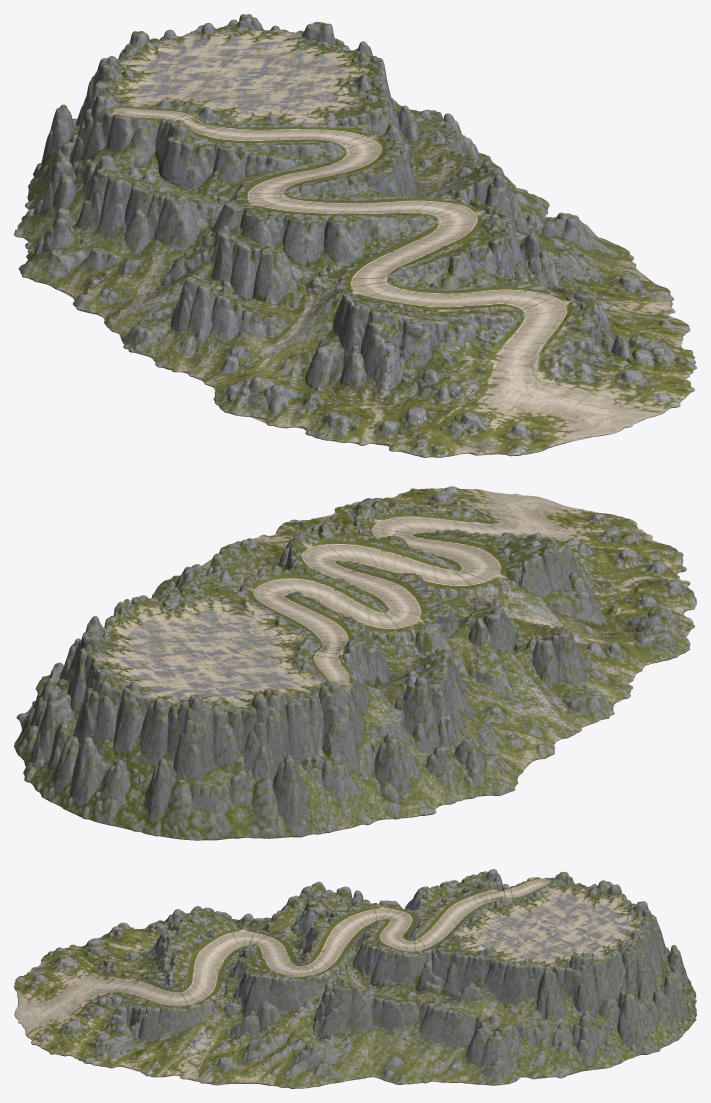
The model's file is glb.glb.
The picture shows the model from 3 angles, top to bottom: view 1: azimuth 30°, elevation 25°; view 2: azimuth 150°, elevation 25°; view 3: azimuth 270°, elevation 25°; orthographic projection. The views are drawn at different scales.
Visible parts, largest first — view 1: Mesh_0; view 2: Mesh_0; view 3: Mesh_0.
Part boxes in pixels (x1=…): Mesh_0: x1=14, y1=14, x2=696, y2=457; Mesh_0: x1=14, y1=486, x2=696, y2=840; Mesh_0: x1=14, y1=869, x2=696, y2=1088.
Size of the model in its own units: 1.18 by 0.2827 by 1.9.
Materials: 1 (1 with a texture image).
